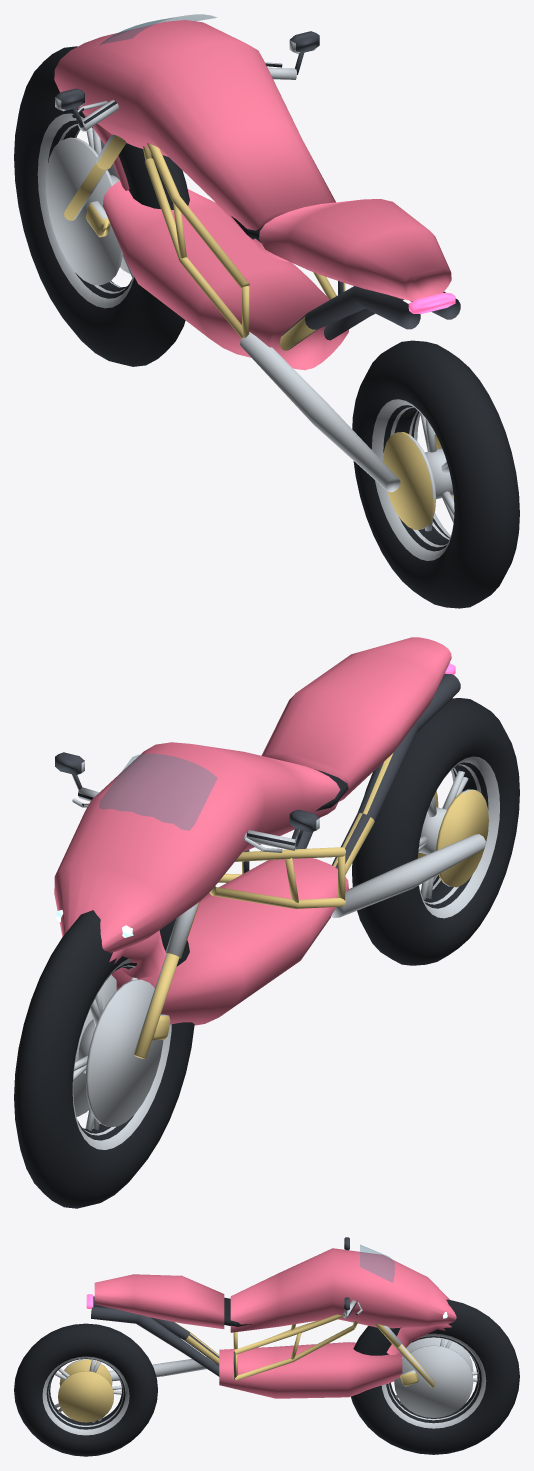
File: redline.glb
The picture shows the model from 3 angles, top to bottom: view 1: azimuth 30°, elevation 25°; view 2: azimuth 150°, elevation 25°; view 3: azimuth 270°, elevation 25°; orthographic projection. The views are drawn at different scales.
Visible parts, largest first — view 1: chassis, rear-wheel, front-wheel, cockpit; view 2: chassis, front-wheel, rear-wheel, cockpit; view 3: chassis, front-wheel, rear-wheel, cockpit.
Boxes of the visible parts, box(x1,y1,x2,y2) form: chassis: box(54, 20, 460, 492); rear-wheel: box(352, 340, 519, 608); front-wheel: box(14, 46, 189, 366); cockpit: box(55, 14, 319, 131); chassis: box(54, 637, 485, 1058); front-wheel: box(14, 910, 194, 1208); rear-wheel: box(352, 698, 519, 965); cockpit: box(55, 752, 319, 852); chassis: box(86, 1248, 456, 1398); front-wheel: box(351, 1299, 519, 1454); rear-wheel: box(14, 1323, 157, 1456); cockpit: box(342, 1237, 395, 1318).
Bounding box in the file's own units: 0.98 × 1.4 × 3.13.
